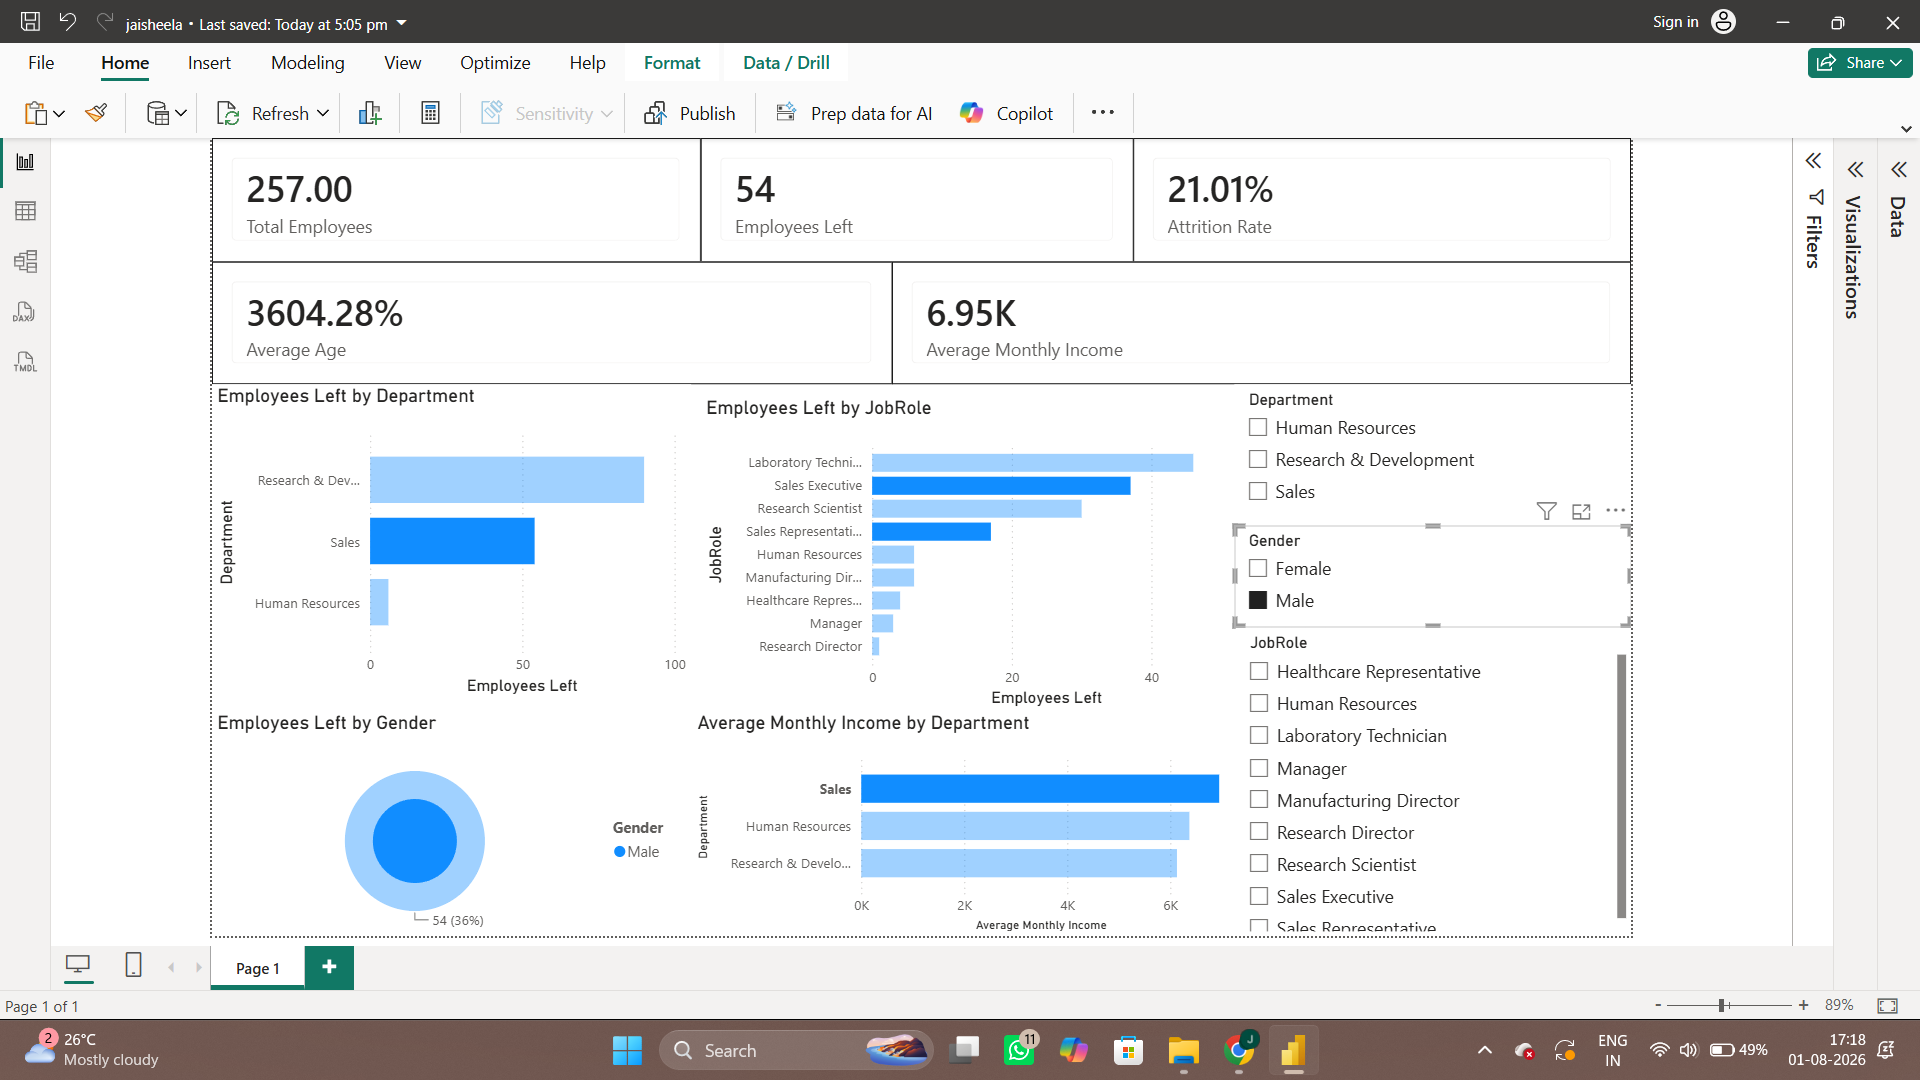

Layout of this report page (visuals, bound fields, positions):
{"tool":"powerbi","page":{"name":"Page 1","canvas":[1280,720],"ordinal":0},"visuals":[{"type":"cardVisual","fields":{"Data":["HR_Analytics_Cleaned.Total Employees"]},"box":[0,0,440.7,111.7],"z":0},{"type":"cardVisual","fields":{"Data":["HR_Analytics_Cleaned.Employees Left"]},"box":[440.7,0,390.2,111.7],"z":1000},{"type":"cardVisual","fields":{"Data":["HR_Analytics_Cleaned.Attrition Rate"]},"box":[830.9,0,449.1,111.7],"z":2000},{"type":"cardVisual","fields":{"Data":["HR_Analytics_Cleaned.Average Age"]},"box":[0,111.7,613.6,110.5],"z":3000},{"type":"cardVisual","fields":{"Data":["HR_Analytics_Cleaned.Average Monthly Income"]},"box":[613.6,111.7,666.4,110.5],"z":4000},{"type":"clusteredBarChart","fields":{"Category":["HR_Analytics_Cleaned.Department"],"Y":["HR_Analytics_Cleaned.Employees Left"]},"box":[0,222.1,432.3,284.6],"z":5000},{"type":"clusteredBarChart","fields":{"Category":["HR_Analytics_Cleaned.JobRole"],"Y":["HR_Analytics_Cleaned.Employees Left"]},"box":[440.7,232.9,481.5,284.6],"z":6000},{"type":"pieChart","fields":{"Category":["HR_Analytics_Cleaned.Gender"],"Y":["HR_Analytics_Cleaned.Employees Left"]},"box":[0,517.5,432.3,202.9],"z":7000},{"type":"clusteredBarChart","fields":{"Category":["HR_Analytics_Cleaned.Department"],"Y":["HR_Analytics_Cleaned.Average Monthly Income"]},"box":[432.3,517.5,489.9,202.9],"z":8000},{"type":"slicer","fields":{"Values":["HR_Analytics_Cleaned.Department"]},"box":[922.2,222.1,357.8,127.3],"z":9000},{"type":"slicer","fields":{"Values":["HR_Analytics_Cleaned.Gender"]},"box":[922.2,349.4,357.8,92.5],"z":10000},{"type":"slicer","fields":{"Values":["HR_Analytics_Cleaned.JobRole"]},"box":[923.1,441.8,357.3,278.4],"z":11000}]}

Visuals, with their boxes on the page's 1280x720 design canvas (x1, y1, x2, y2). These are canvas units, not pixel positions in the 1920x1080 screenshot, which may show the page scaled, cropped or inside an application window:
cardVisual - HR_Analytics_Cleaned.Total Employees: Rect(0, 0, 441, 112)
cardVisual - HR_Analytics_Cleaned.Employees Left: Rect(441, 0, 831, 112)
cardVisual - HR_Analytics_Cleaned.Attrition Rate: Rect(831, 0, 1280, 112)
cardVisual - HR_Analytics_Cleaned.Average Age: Rect(0, 112, 614, 222)
cardVisual - HR_Analytics_Cleaned.Average Monthly Income: Rect(614, 112, 1280, 222)
clusteredBarChart - HR_Analytics_Cleaned.Department x HR_Analytics_Cleaned.Employees Left: Rect(0, 222, 432, 507)
clusteredBarChart - HR_Analytics_Cleaned.JobRole x HR_Analytics_Cleaned.Employees Left: Rect(441, 233, 922, 518)
pieChart - HR_Analytics_Cleaned.Gender x HR_Analytics_Cleaned.Employees Left: Rect(0, 518, 432, 720)
clusteredBarChart - HR_Analytics_Cleaned.Department x HR_Analytics_Cleaned.Average Monthly Income: Rect(432, 518, 922, 720)
slicer - HR_Analytics_Cleaned.Department: Rect(922, 222, 1280, 349)
slicer - HR_Analytics_Cleaned.Gender: Rect(922, 349, 1280, 442)
slicer - HR_Analytics_Cleaned.JobRole: Rect(923, 442, 1280, 720)
